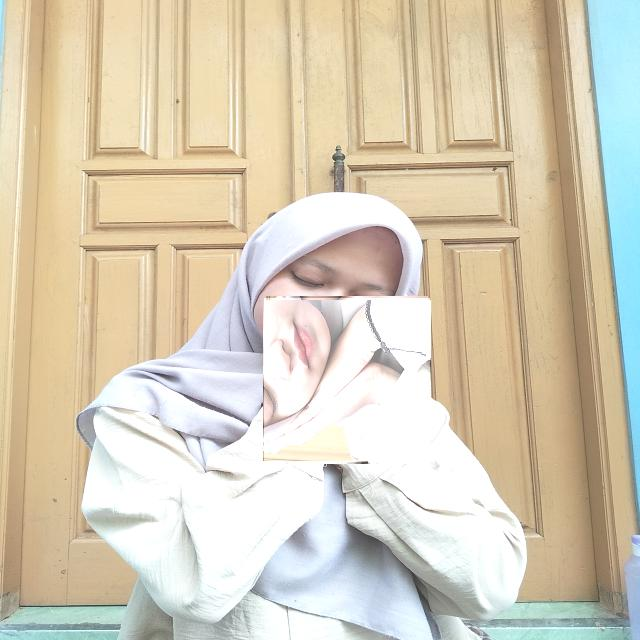tidur: (264, 298, 430, 462)
